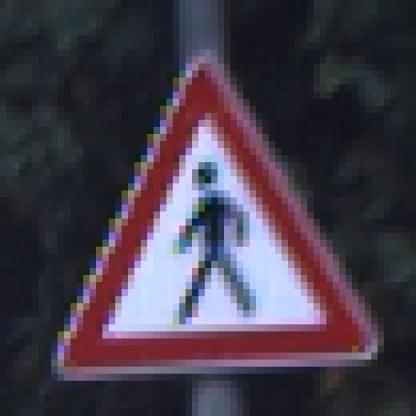crosswalk: (52, 48, 379, 382)
